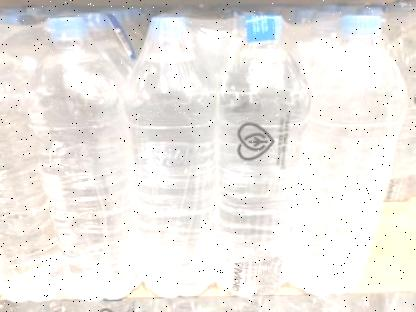Plastic Bottle: (290, 16, 407, 294), (37, 18, 141, 300), (217, 15, 311, 296), (126, 17, 217, 297)
